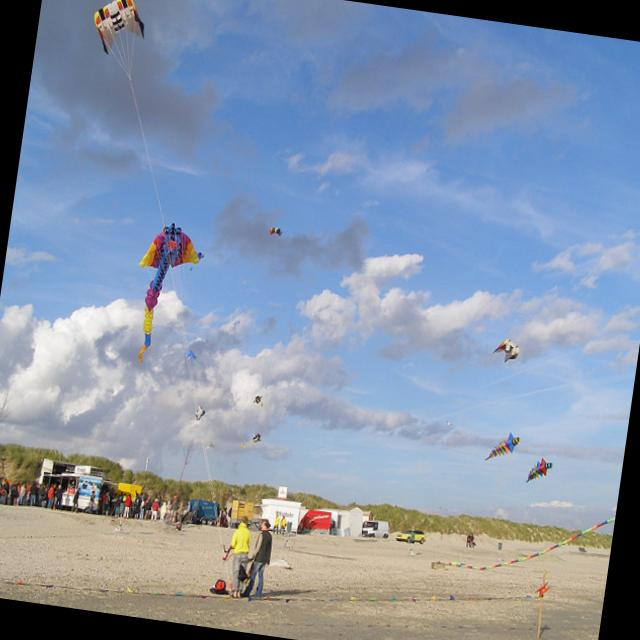Vehicle: (182, 498, 220, 528), (362, 518, 391, 541), (395, 526, 428, 546)
